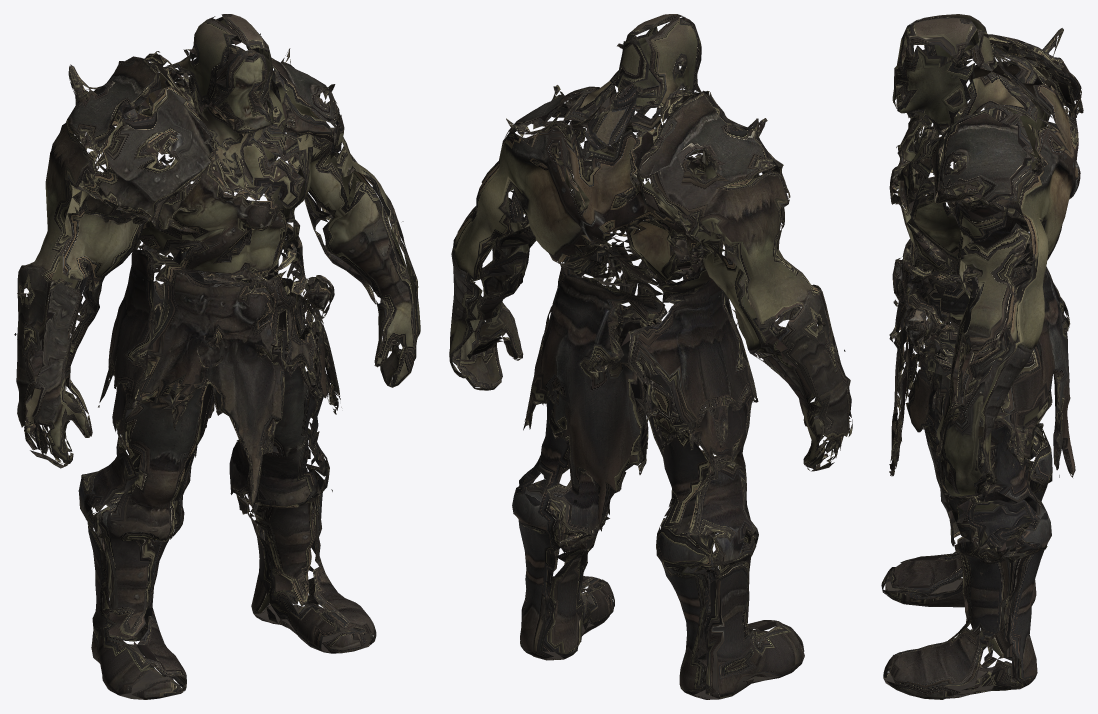
The model's file is orc-male-warrior.glb.
3 views of the same model, side by side, from view 1: azimuth 30°, elevation 25°; view 2: azimuth 150°, elevation 25°; view 3: azimuth 270°, elevation 25° (orthographic). The views are drawn at different scales.
Visible parts, largest first — view 1: geometry_0; view 2: geometry_0; view 3: geometry_0.
Part boxes in pixels (x1,y1,x2,y2): geometry_0: (14, 14, 420, 699); geometry_0: (449, 14, 852, 699); geometry_0: (881, 14, 1083, 699).
Bounding box in the file's own units: 1.31 × 2 × 0.5869.
Materials: 1 (1 with a texture image).
